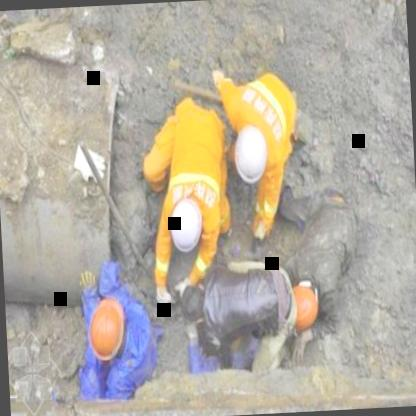helmet: (87, 296, 130, 360), (164, 198, 206, 258), (231, 129, 270, 186), (286, 282, 318, 332)
